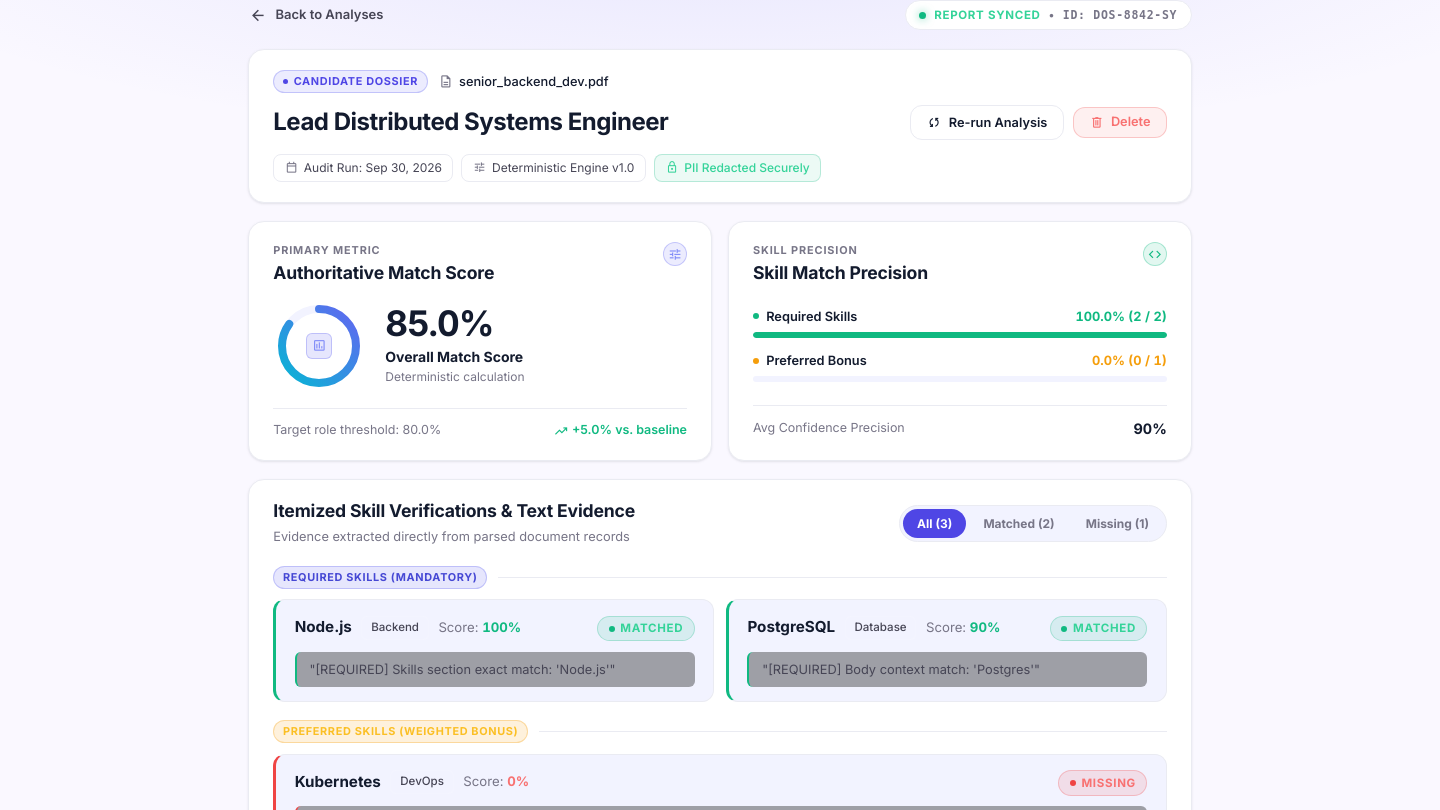
Test: Stage 5: Analysis Creation, Results & Recommendations Suite › 22. Analysis delete confirmation: opens modal displaying job title before deletion
Click the button with test id "delete-analysis-page-btn": (1120, 122) [1073,106,1167,138]
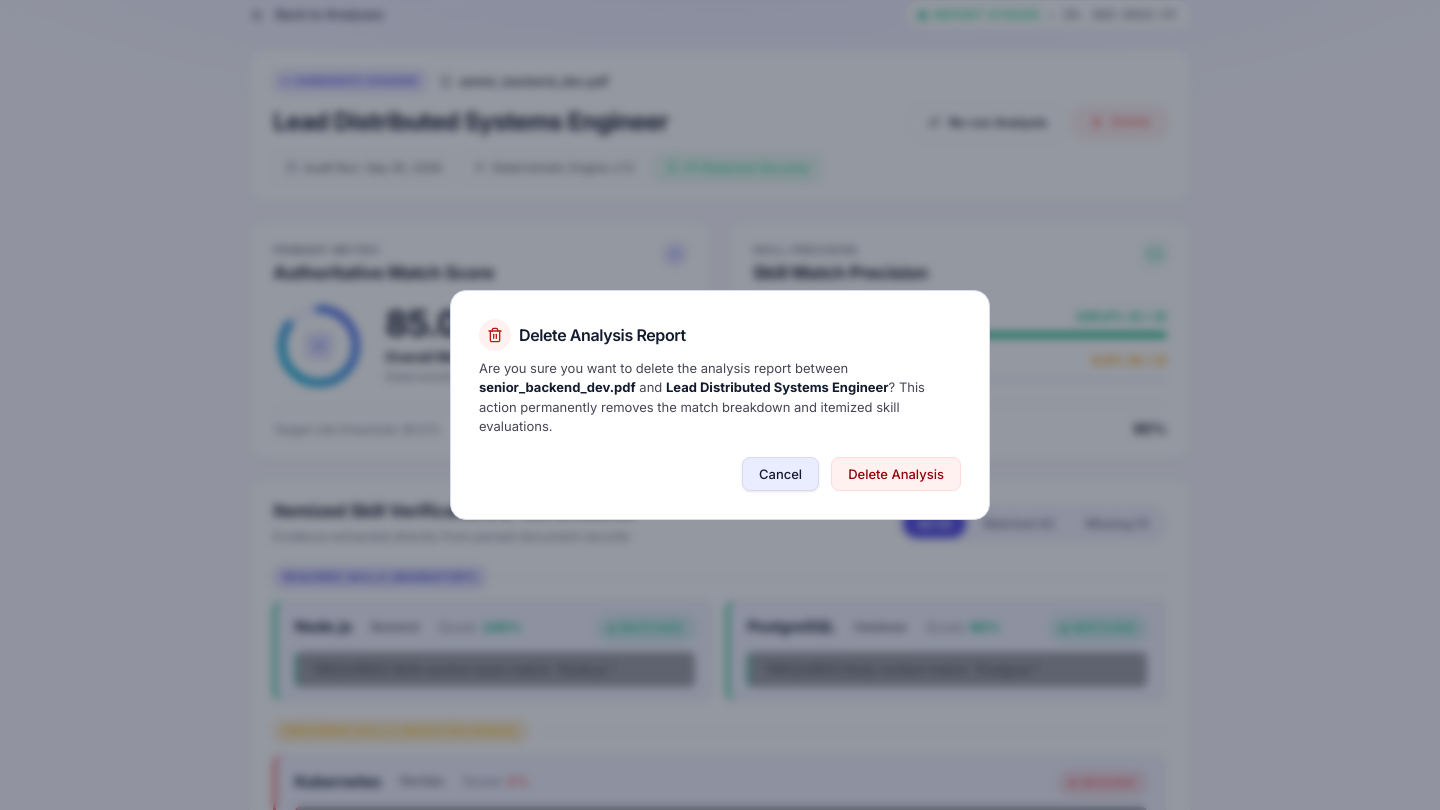
Now the dialog with test id "delete-analysis-dialog" is shown, box [450,290,990,520]
Now the dialog with test id "delete-analysis-dialog" shows "Lead Distributed Systems Engineer", box [666,379,888,395]
